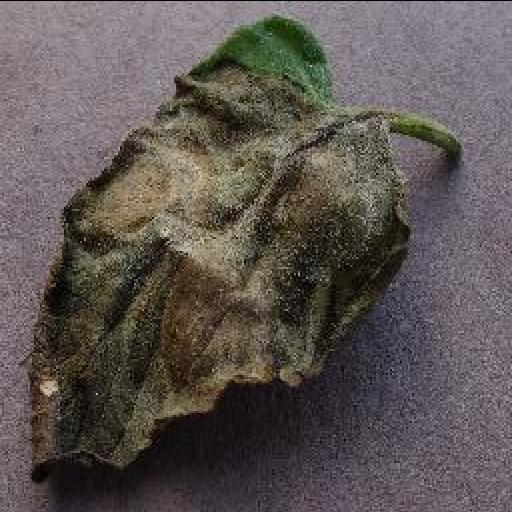disease_tomato: (22, 10, 418, 482)
